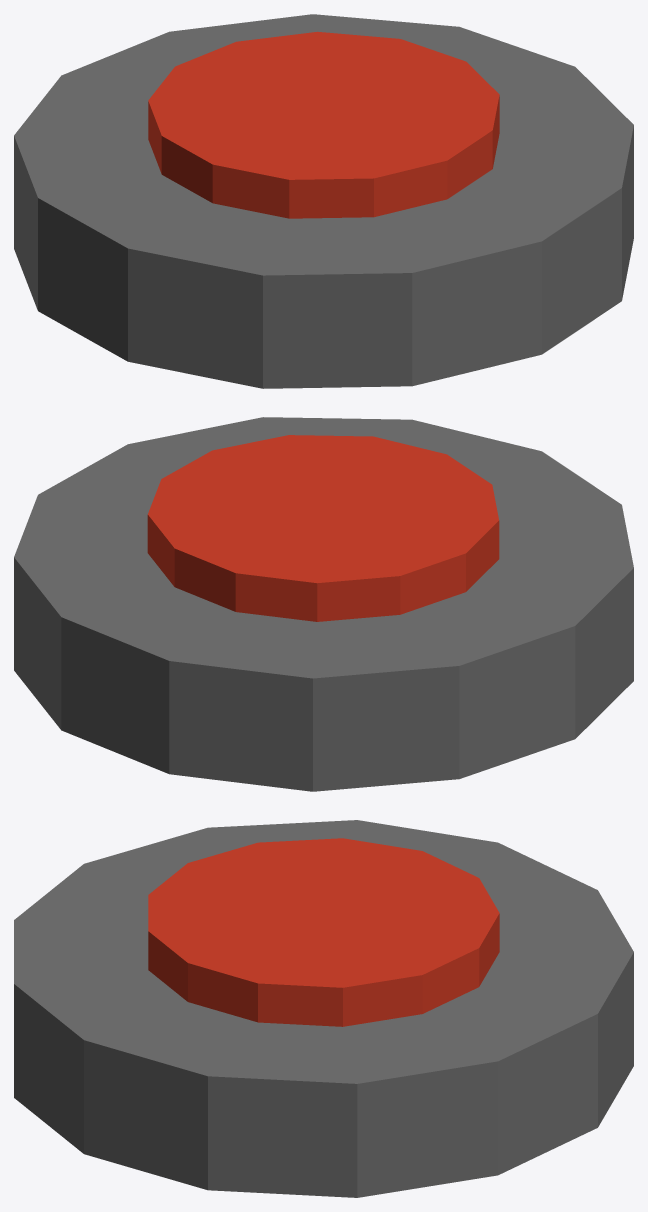
Rendered from landmine.fbx.
3 renders of one model, top to bottom at view 1: azimuth 30°, elevation 25°; view 2: azimuth 150°, elevation 25°; view 3: azimuth 270°, elevation 25°, orthographic.
Visible parts, largest first — view 1: Cylinder, Cylinder.001; view 2: Cylinder, Cylinder.001; view 3: Cylinder, Cylinder.001.
Part boxes in pixels (x1,y1,x2,y2): Cylinder: (14,14,633,388); Cylinder.001: (148,31,499,218); Cylinder: (14,417,633,791); Cylinder.001: (147,435,499,621); Cylinder: (14,820,633,1197); Cylinder.001: (148,838,499,1026).
Bounding box in the file's own units: 199 × 53.7 × 197.
